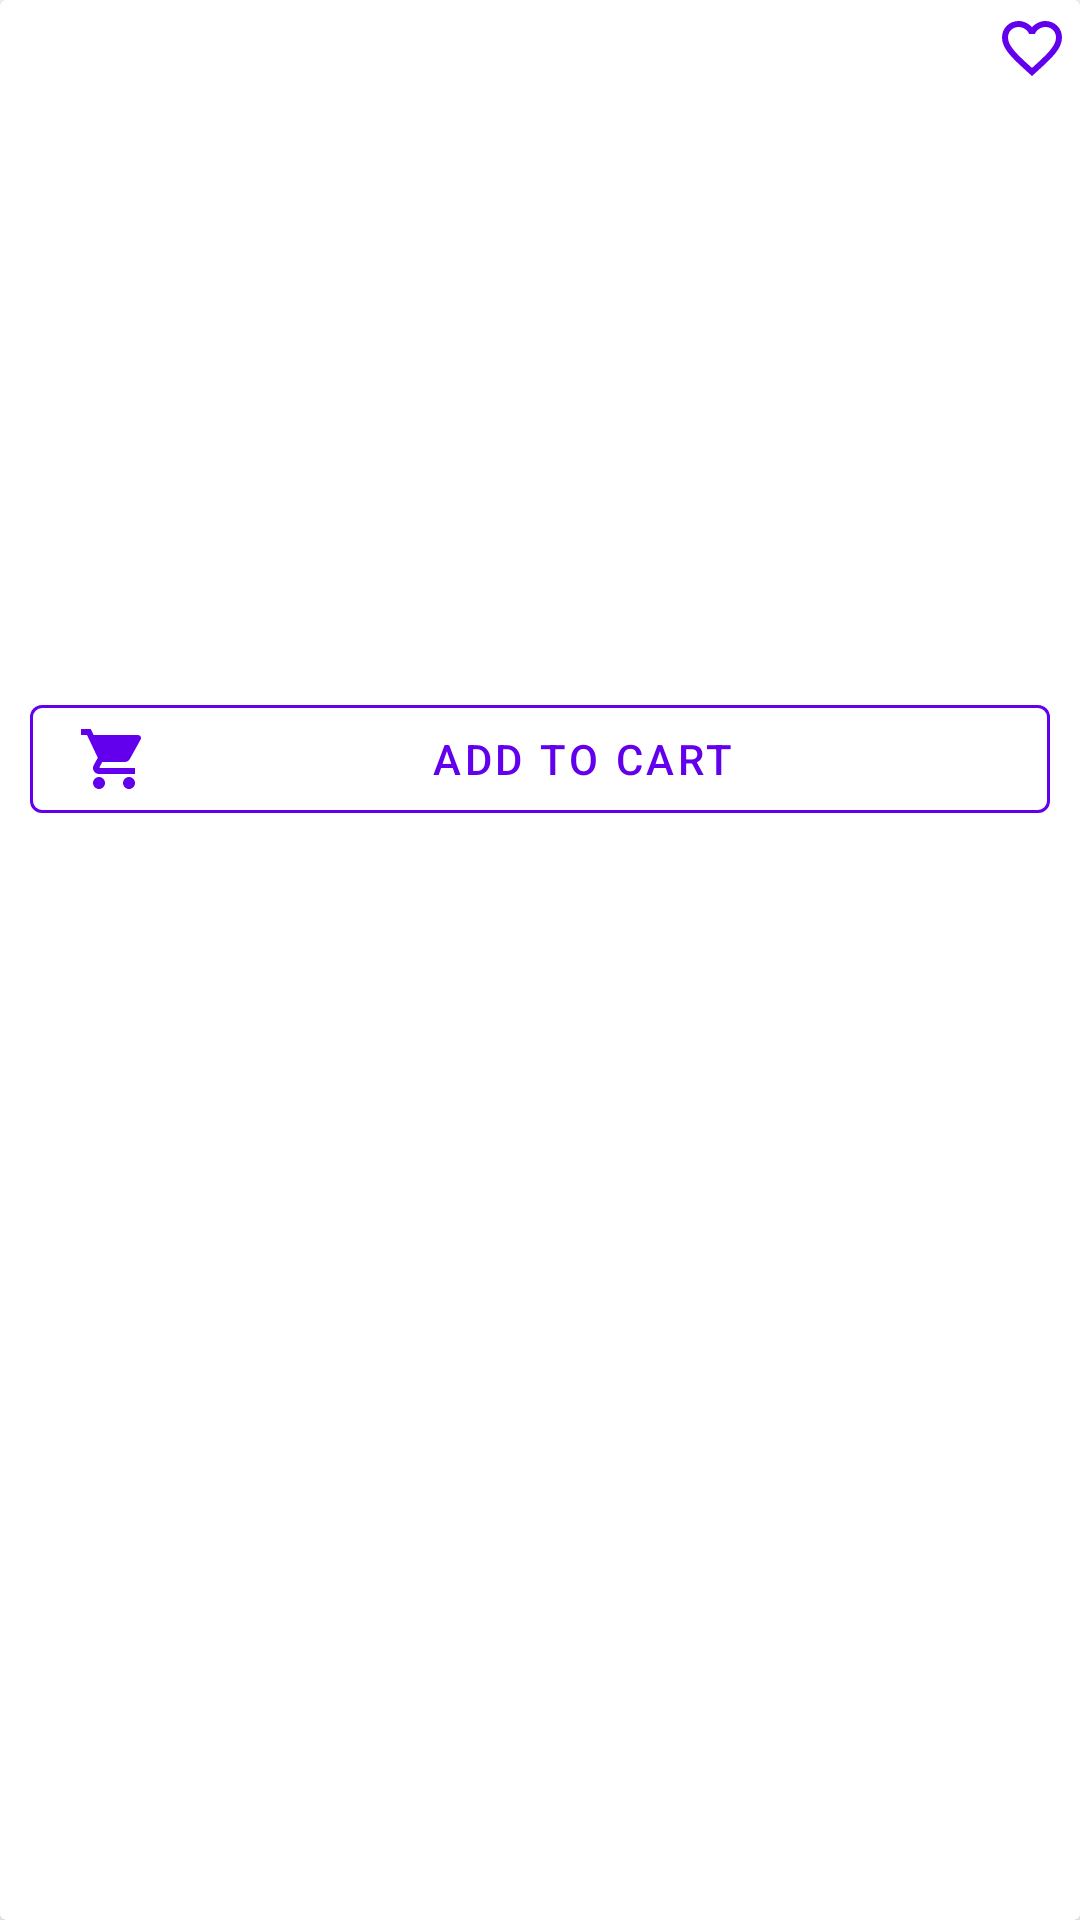

Locate icon controls on the screen. Image size 1080×1920, boxes as [x1=x1, y1=y1, x2=x2, y2=y2].
Favorite: [x1=1002, y1=21, x2=1062, y2=76]
